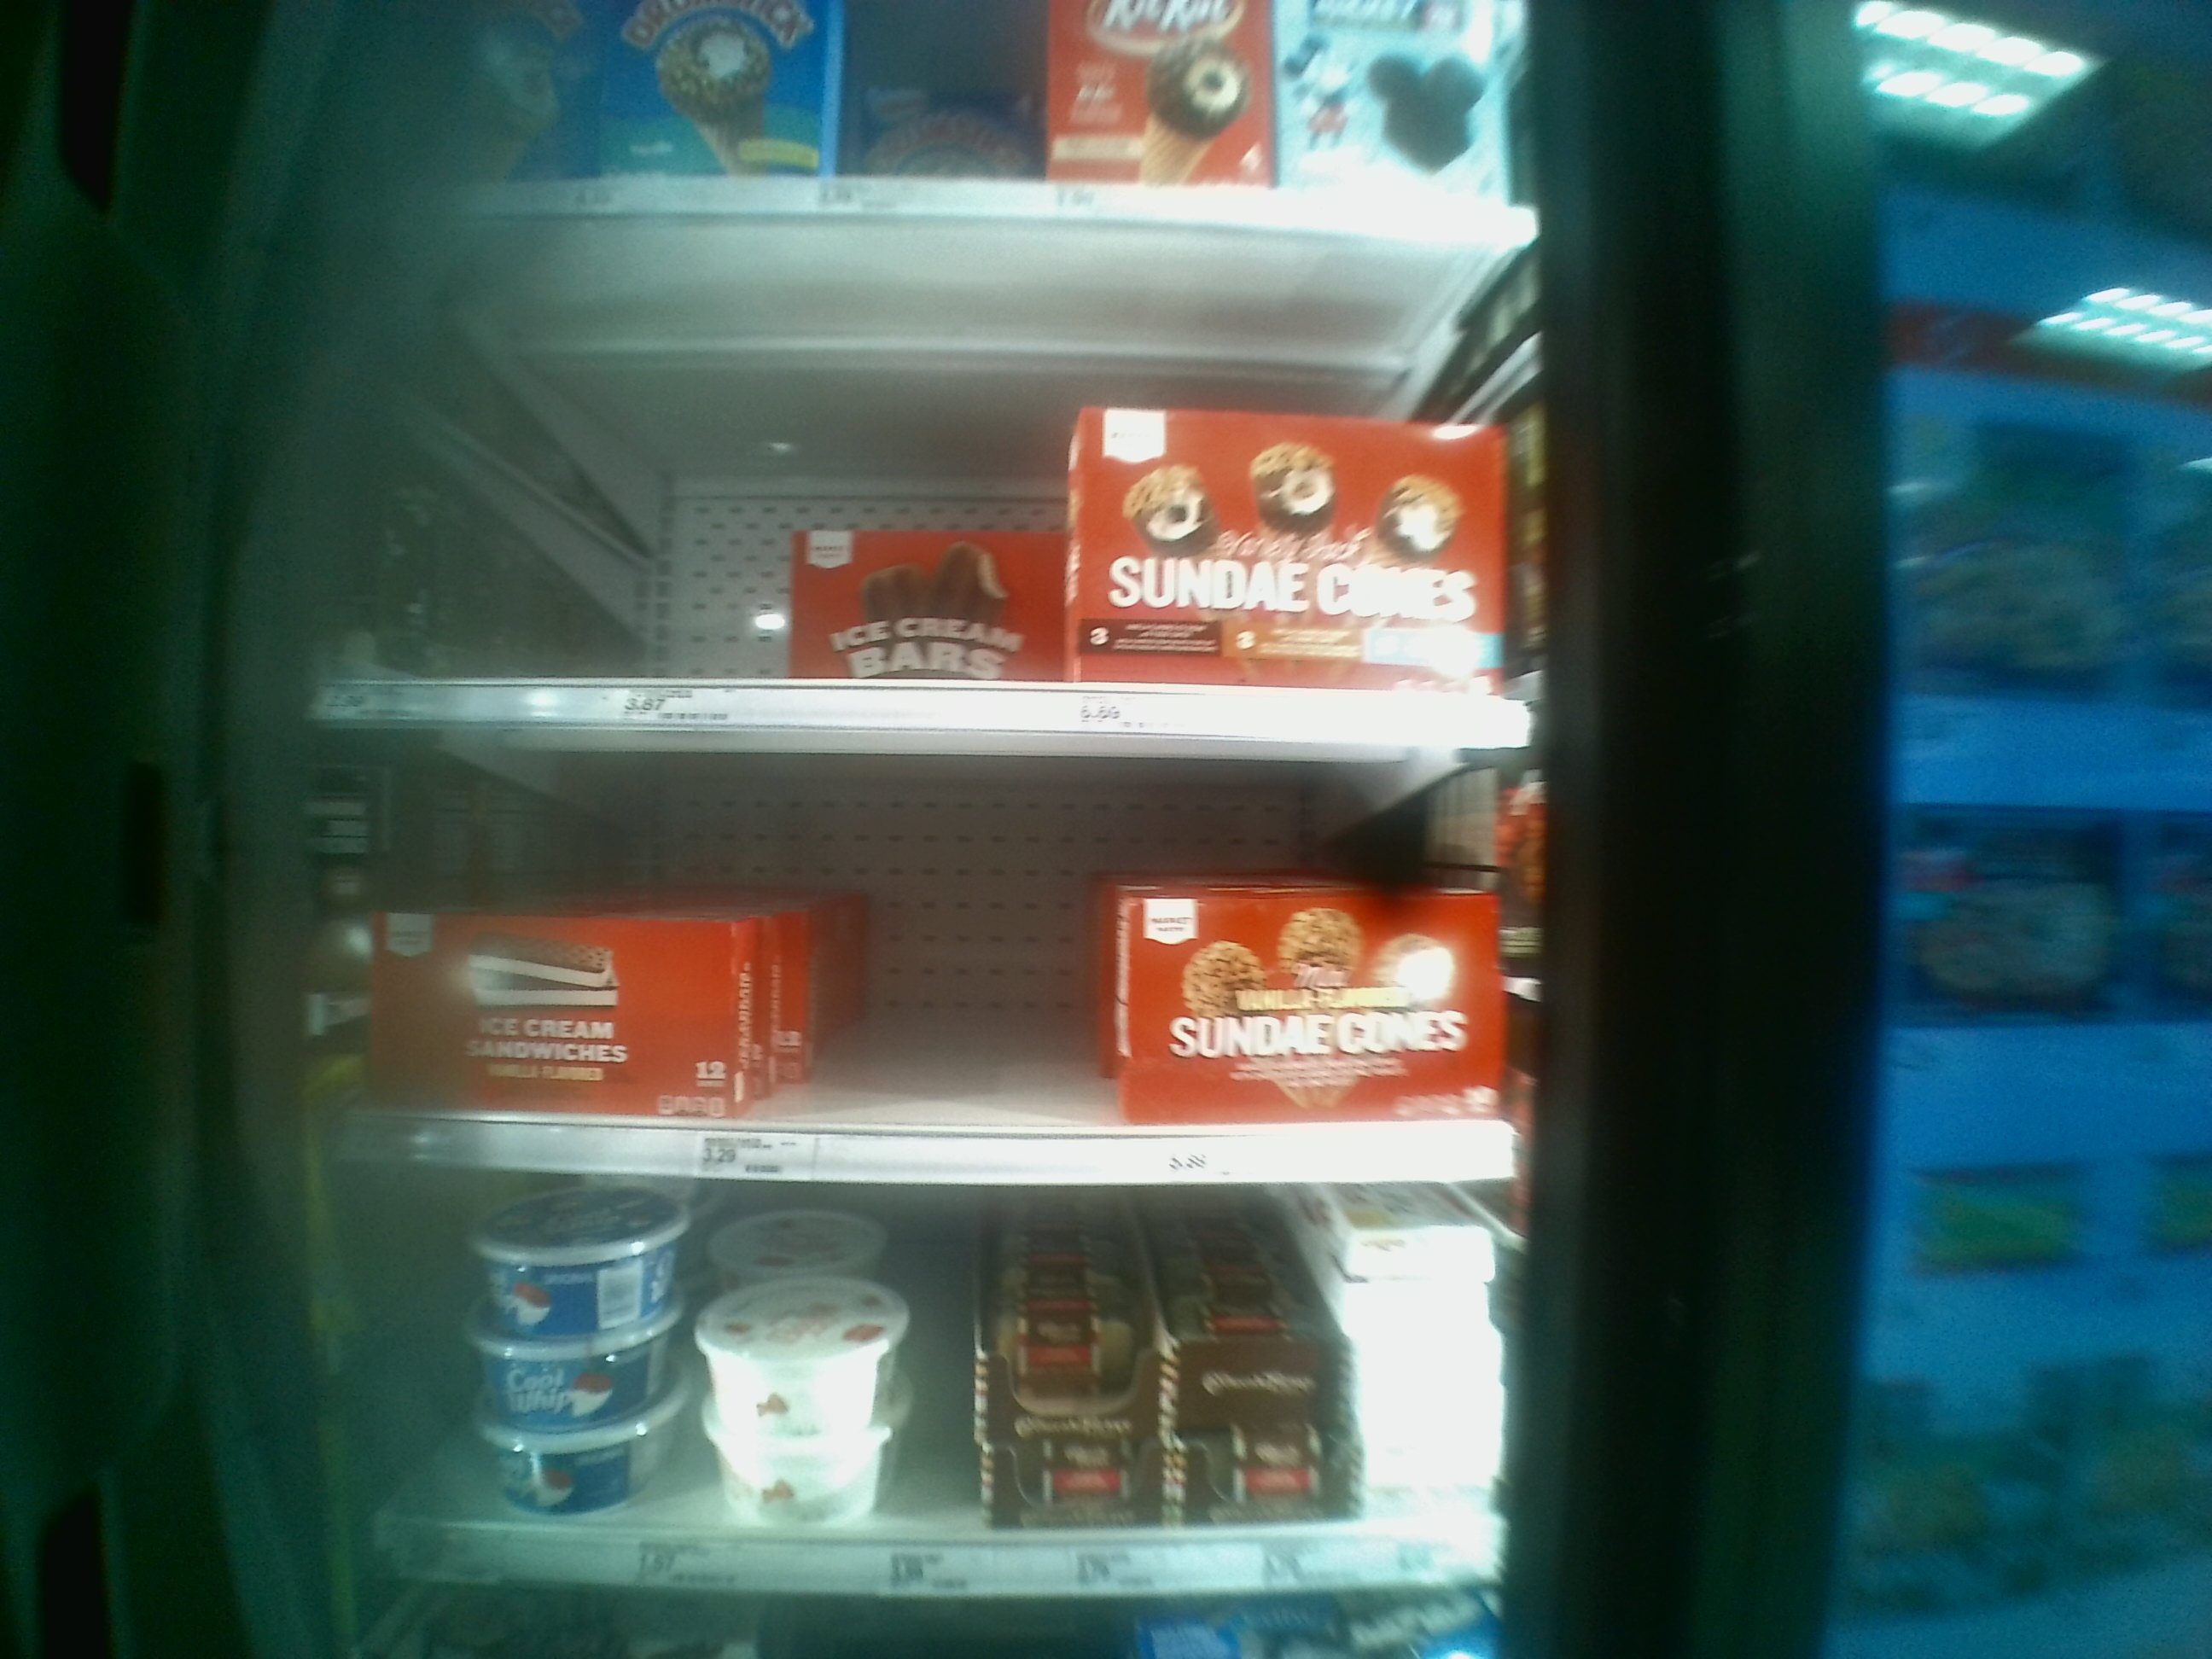frozen-food-shelf: (263, 239, 1541, 748), (261, 748, 1555, 1190), (263, 1194, 1559, 1605)
